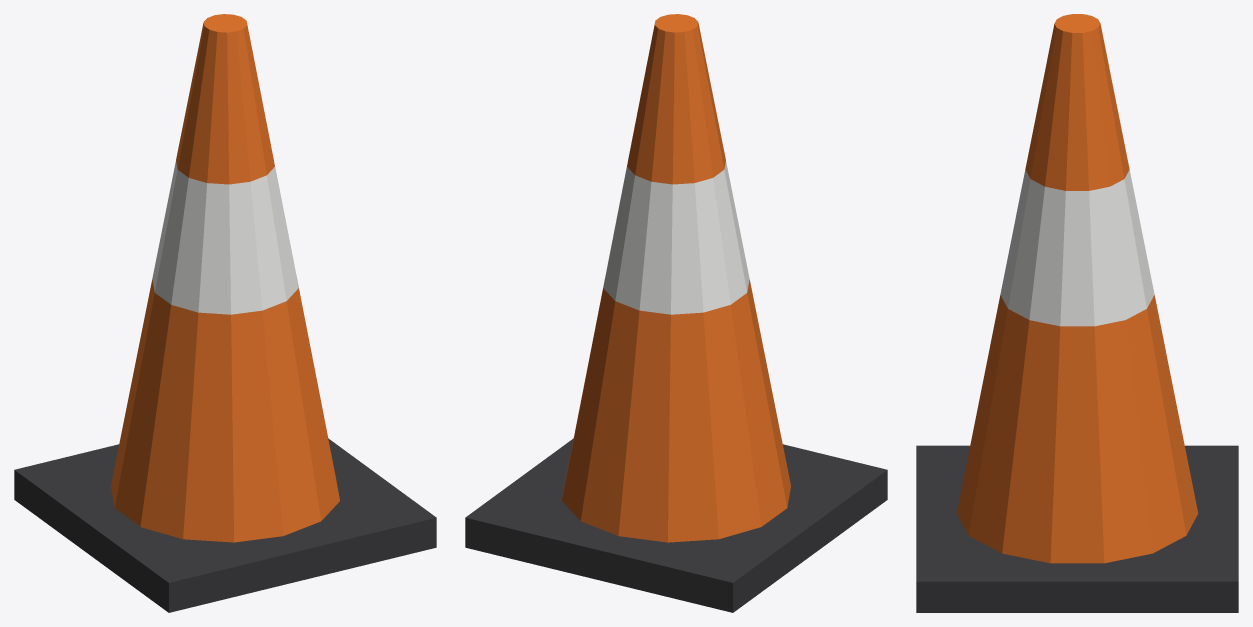
The picture shows the model from 3 angles, left to right: view 1: azimuth 30°, elevation 25°; view 2: azimuth 150°, elevation 25°; view 3: azimuth 270°, elevation 25°; orthographic projection. The views are drawn at different scales.
Parts seen in each view (by area): view 1: cone; view 2: cone; view 3: cone.
Part boxes in pixels (bbox=[...]): cone: bbox=[14, 14, 436, 612]; cone: bbox=[465, 14, 887, 612]; cone: bbox=[916, 14, 1238, 612].
Bounding box in the file's own units: 0.28 × 0.5 × 0.28.
